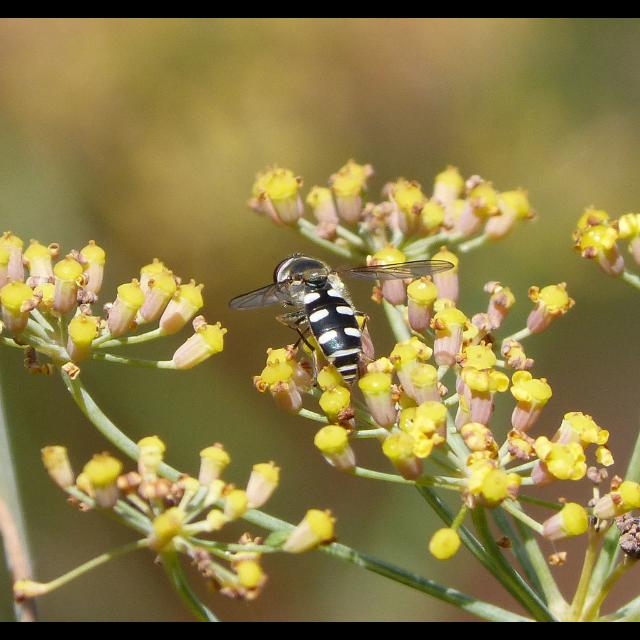Flower: (253, 242, 639, 554), (41, 438, 342, 600), (0, 232, 232, 388), (248, 155, 544, 239), (574, 202, 640, 262)
